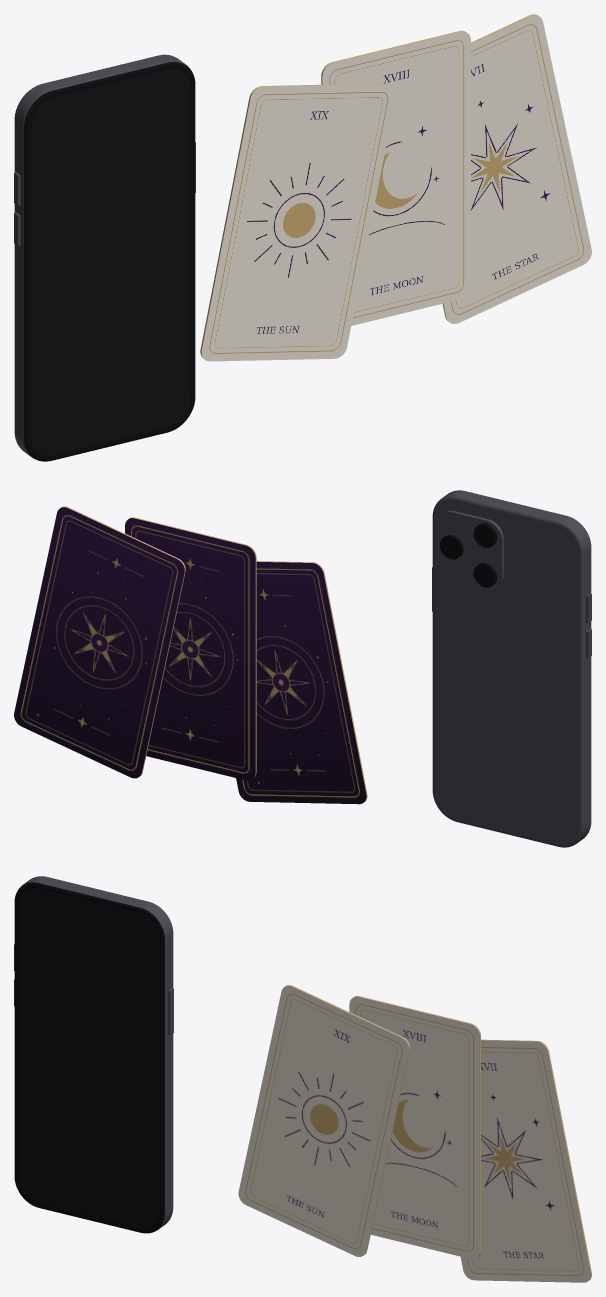
File: upmery.glb
3 views of the same model, one above another, from view 1: azimuth 30°, elevation 25°; view 2: azimuth 150°, elevation 25°; view 3: azimuth 330°, elevation 25° (orthographic). The views are drawn at different scales.
Parts seen in each view (by area): view 1: PhoneScreen, CardSun, CardMoon, CardStar, PhoneBody; view 2: PhoneBody, CardStar, CardMoon, CardSun, CameraBump, Lens2, Lens0, Lens1; view 3: PhoneScreen, CardSun, CardMoon, CardStar, PhoneBody.
Part boxes in pixels (bbox=[...]): PhoneScreen: bbox=[31, 69, 190, 455]; CardSun: bbox=[200, 83, 395, 361]; CardMoon: bbox=[321, 30, 470, 325]; CardStar: bbox=[442, 14, 591, 323]; PhoneBody: bbox=[14, 54, 195, 461]; PhoneBody: bbox=[432, 490, 591, 847]; CardStar: bbox=[14, 506, 185, 778]; CardMoon: bbox=[125, 517, 256, 780]; CardSun: bbox=[236, 561, 367, 804]; CameraBump: bbox=[436, 510, 503, 589]; Lens2: bbox=[440, 534, 463, 559]; Lens0: bbox=[473, 523, 497, 547]; Lens1: bbox=[473, 563, 497, 587]; PhoneScreen: bbox=[19, 888, 158, 1228]; CardSun: bbox=[238, 985, 410, 1256]; CardMoon: bbox=[349, 996, 480, 1259]; CardStar: bbox=[460, 1039, 591, 1282]; PhoneBody: bbox=[14, 876, 173, 1233].
Bounding box in the file's own units: 2.57 × 1.5 × 0.3362.
Materials: 8 (4 with a texture image).
